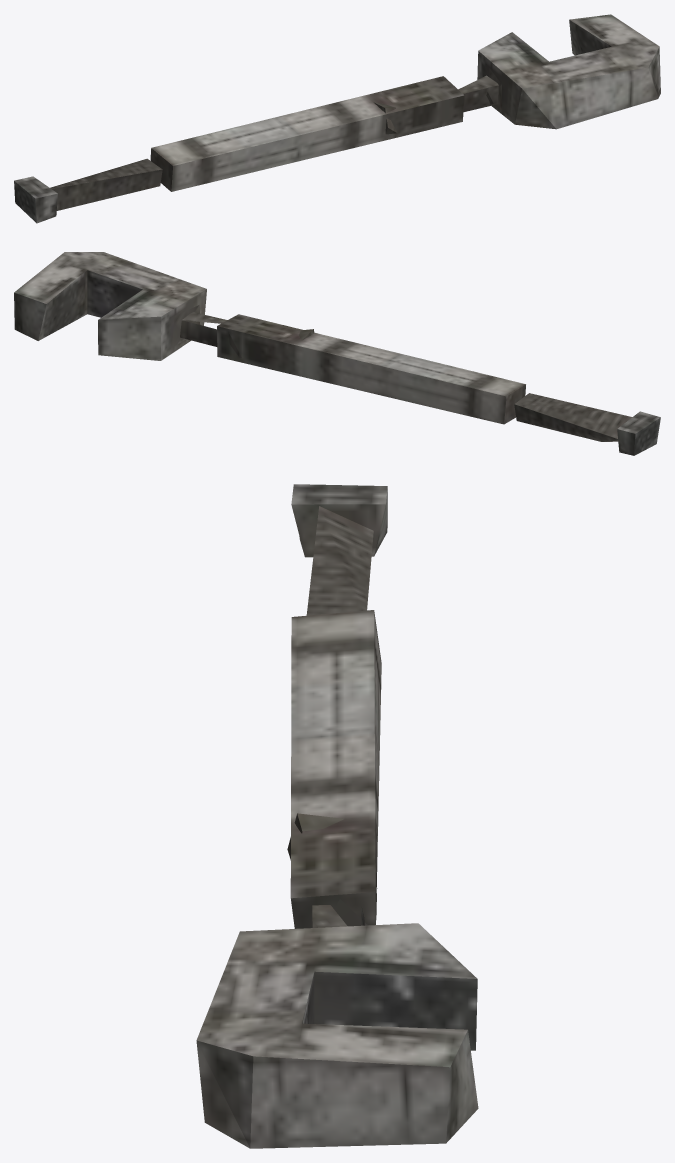
The model's file is prop.wrench.glb.
3 renders of one model, top to bottom at view 1: azimuth 30°, elevation 25°; view 2: azimuth 150°, elevation 25°; view 3: azimuth 270°, elevation 25°, orthographic. The views are drawn at different scales.
Visible parts, largest first — view 1: body; view 2: body; view 3: body.
Boxes of the visible parts, left/top/right/bottom form: body: left=14, top=14, right=660, bottom=223; body: left=14, top=252, right=660, bottom=455; body: left=196, top=484, right=478, bottom=1148.
Size of the model in its own units: 0.3 by 0.0216 by 0.0602.
Materials: 1 (1 with a texture image).
